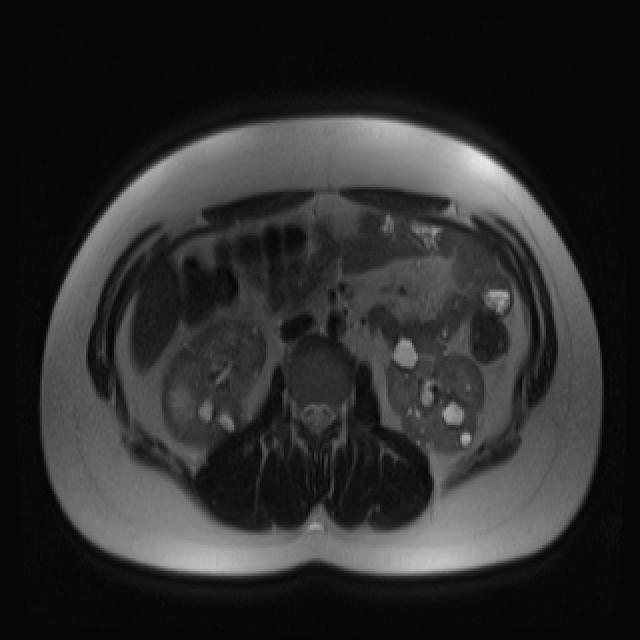sag: (157, 319, 270, 455)
sol: (382, 337, 485, 454)
